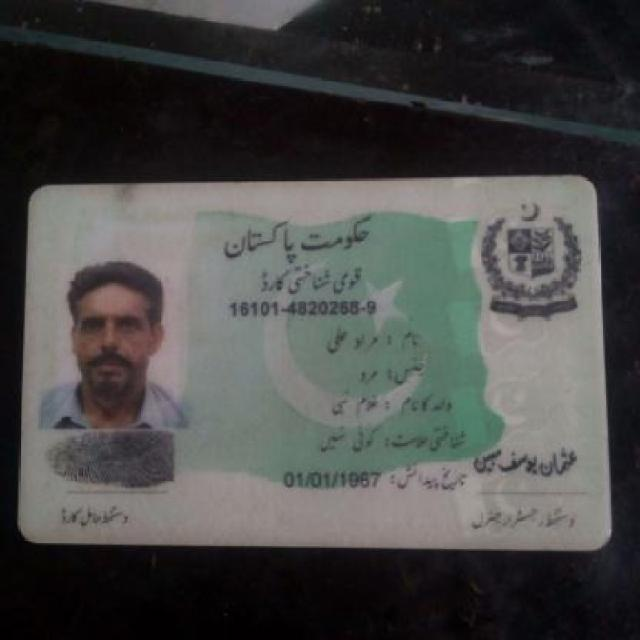Front: (12, 172, 617, 565)
